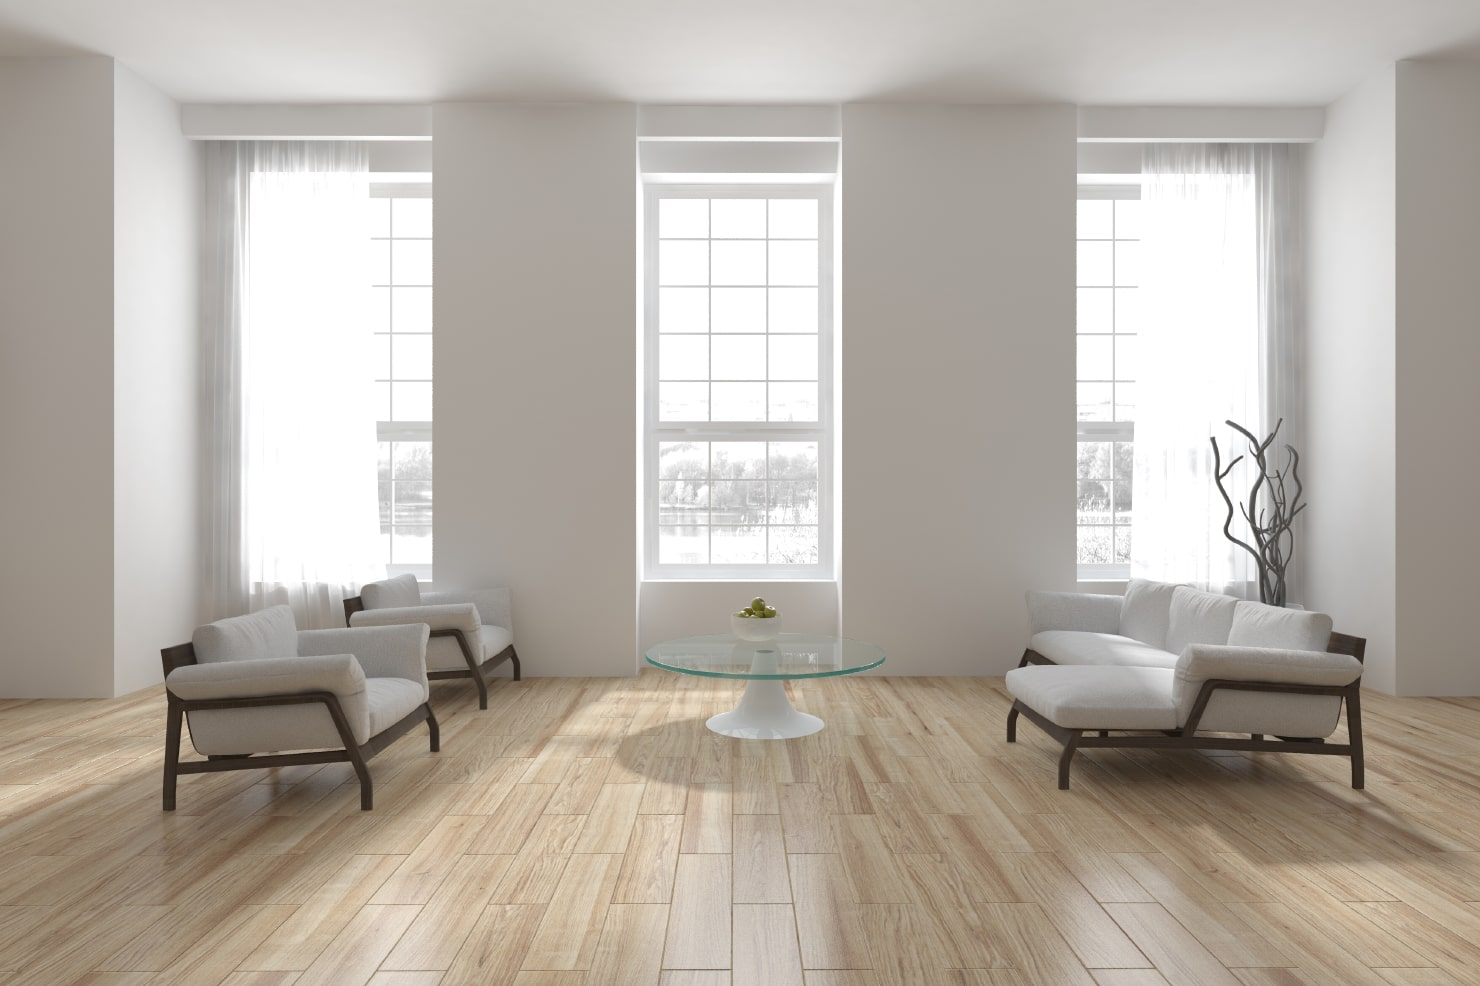chair: (152, 598, 445, 819), (341, 572, 523, 710)
sofa: (996, 572, 1375, 798)
table: (642, 600, 887, 744)
